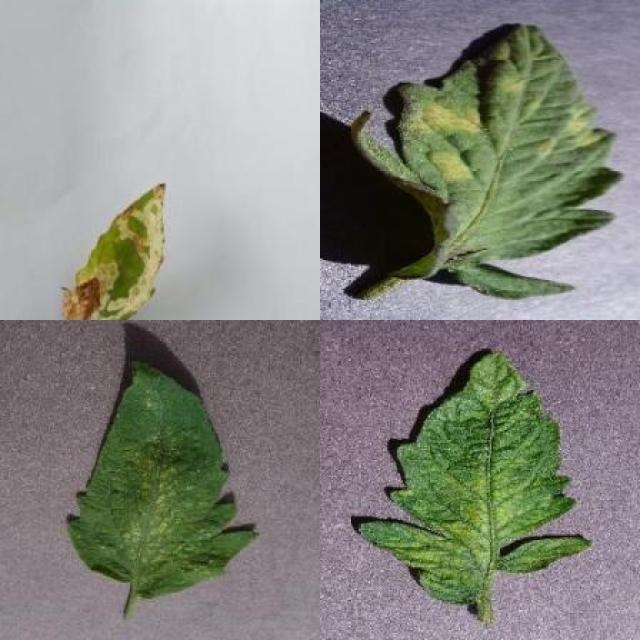Leaf Miner: (59, 176, 167, 320)
Leaf Mold: (352, 25, 628, 302)
Mosaic Virus: (358, 347, 595, 607)
Spider Mites: (64, 357, 260, 603)
